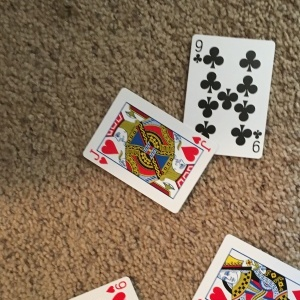card: (83, 87, 216, 213), (185, 33, 276, 159)
